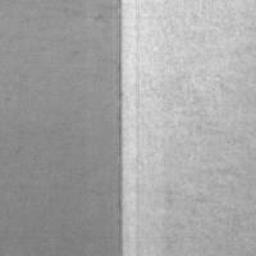Welding line: (116, 0, 124, 256)
